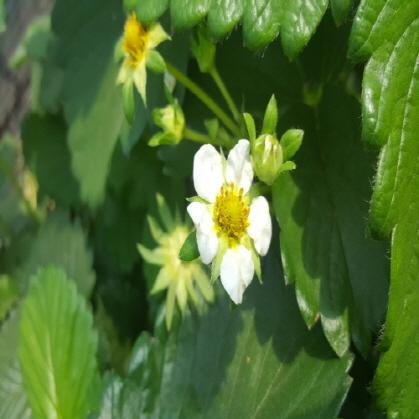Blossom Blight: (209, 178, 252, 251)
